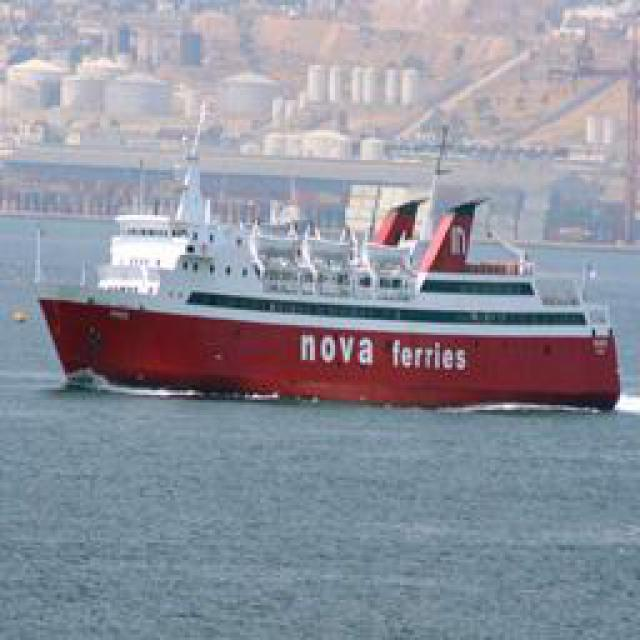Ship: (31, 64, 634, 399)
